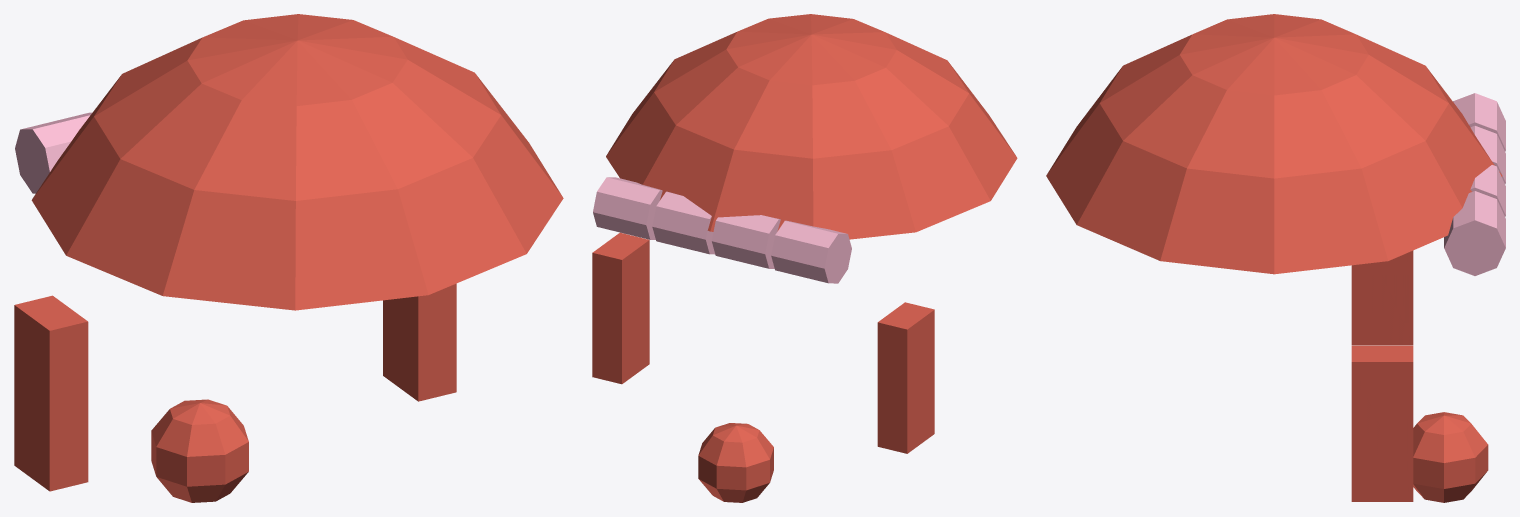
The model's file is hat_curlers.glb.
The picture shows the model from 3 angles, left to right: view 1: azimuth 30°, elevation 25°; view 2: azimuth 150°, elevation 25°; view 3: azimuth 270°, elevation 25°; orthographic projection. The views are drawn at different scales.
Parts seen in each view (by area): view 1: Head; view 2: Head; view 3: Head.
Part boxes in pixels (x1,y1,x2,y2): Head: (14, 14, 563, 502); Head: (592, 14, 1017, 502); Head: (1046, 14, 1505, 502).
Size of the model in its own units: 0.6031 by 0.66 by 0.5956.
